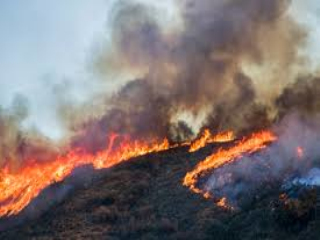fire: (4, 134, 172, 213), (189, 123, 281, 207)
smoke: (80, 15, 306, 131)
